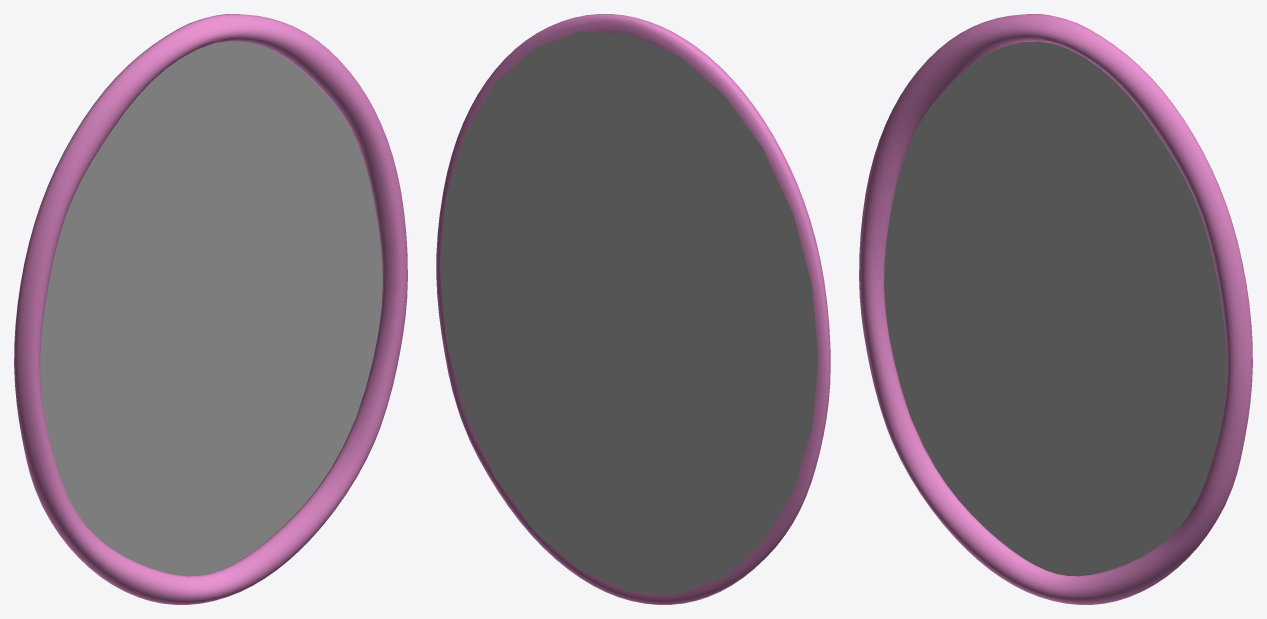
File: Portal.fbx
The picture shows the model from 3 angles, left to right: view 1: azimuth 30°, elevation 25°; view 2: azimuth 150°, elevation 25°; view 3: azimuth 330°, elevation 25°; orthographic projection.
Parts seen in each view (by area): view 1: pDisc1, pDisc2; view 2: pDisc1, pDisc2; view 3: pDisc1, pDisc2.
Part boxes in pixels (<box>): pDisc1: <box>40,41,382,576</box>; pDisc2: <box>14,14,407,604</box>; pDisc1: <box>439,31,818,594</box>; pDisc2: <box>436,14,830,604</box>; pDisc1: <box>884,41,1226,576</box>; pDisc2: <box>859,14,1252,604</box>.
Size of the model in its own units: 7.36 by 10.46 by 0.392.
